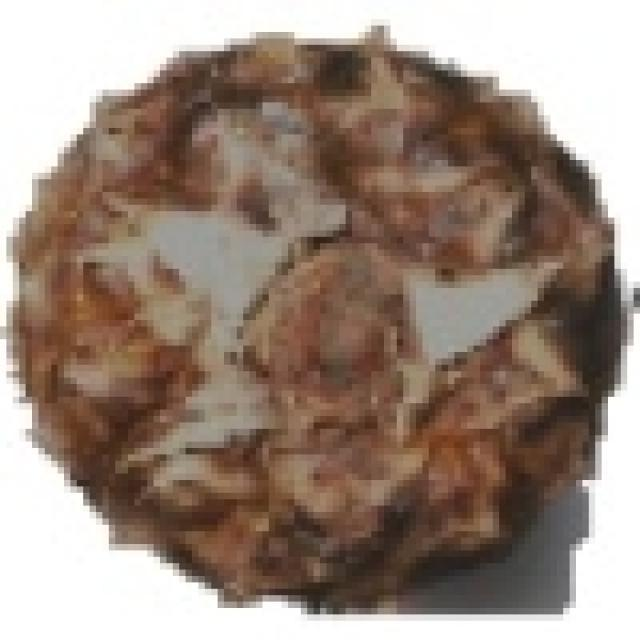pineapple: (6, 26, 608, 595)
